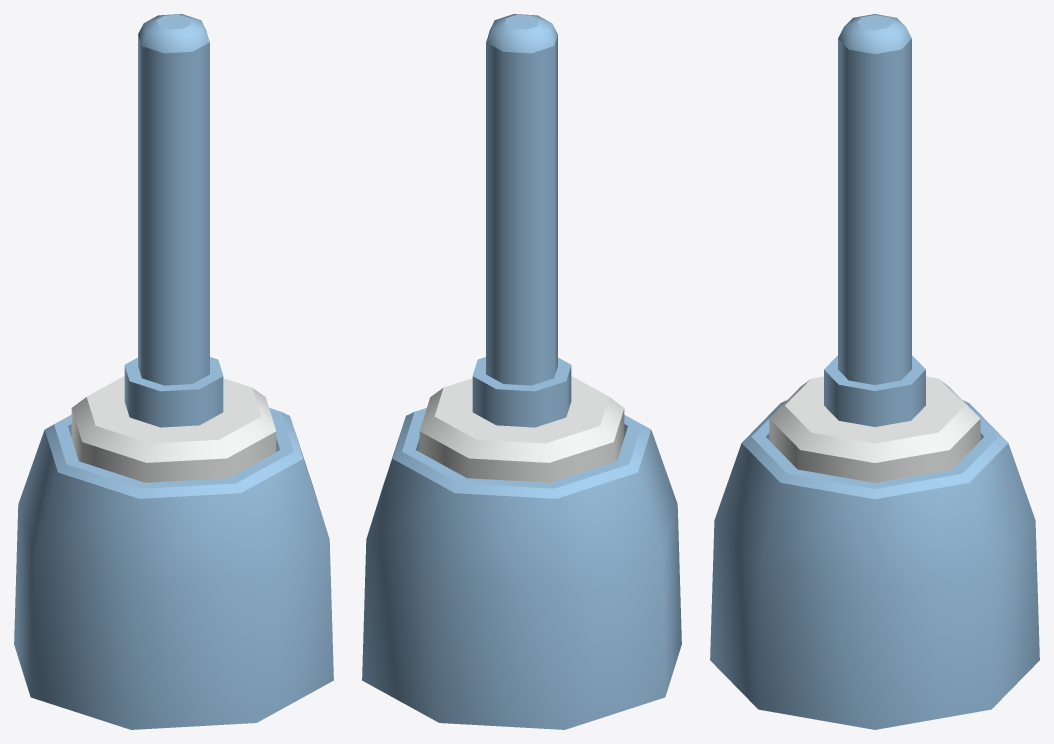
Rendered from Brush.fbx.
The picture shows the model from 3 angles, left to right: view 1: azimuth 30°, elevation 25°; view 2: azimuth 150°, elevation 25°; view 3: azimuth 270°, elevation 25°; orthographic projection.
Visible parts, largest first — view 1: Brush; view 2: Brush; view 3: Brush.
Boxes of the visible parts, <box> form: Brush: <box>14,14,333,729</box>; Brush: <box>362,14,681,729</box>; Brush: <box>710,14,1039,729</box>.
Size of the model in its own units: 0.2377 by 0.5071 by 0.2377.
